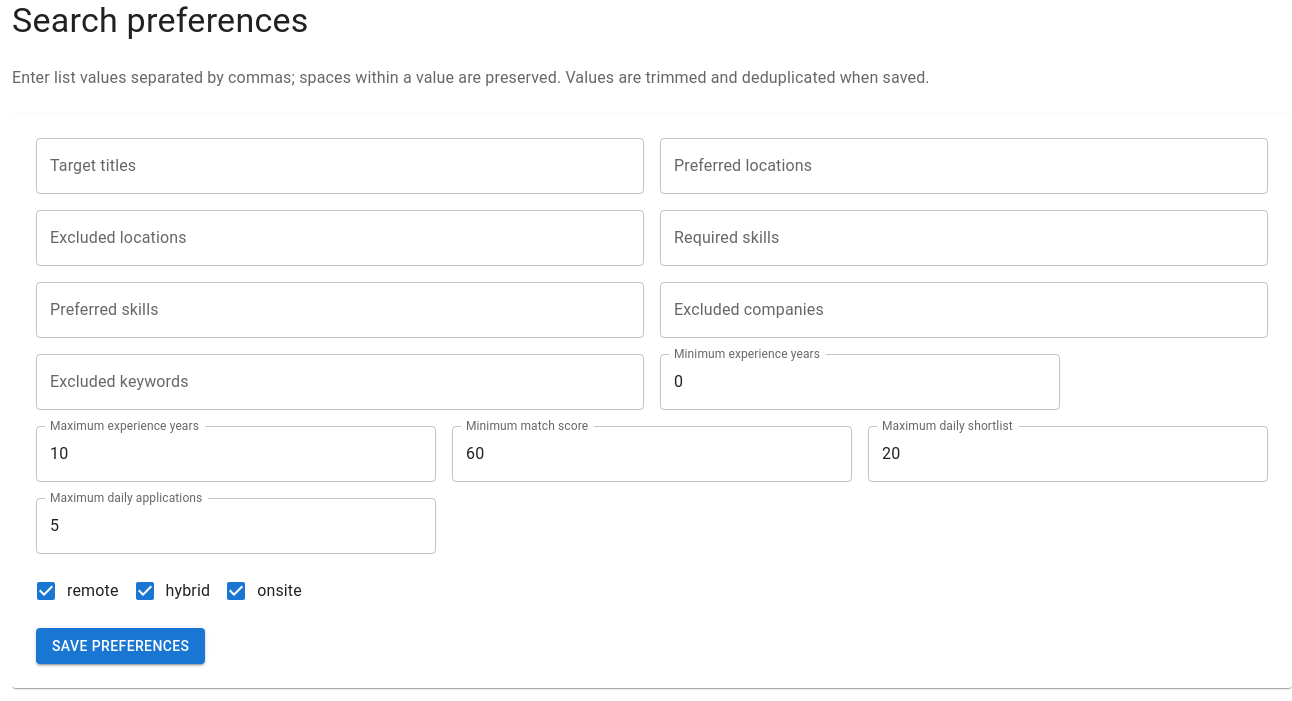
Phase 2 pages › shows the backend preference validation message
Type "Java Backend Developer" into the field labelled "Target titles" at [340, 166], box [36,138,644,194]
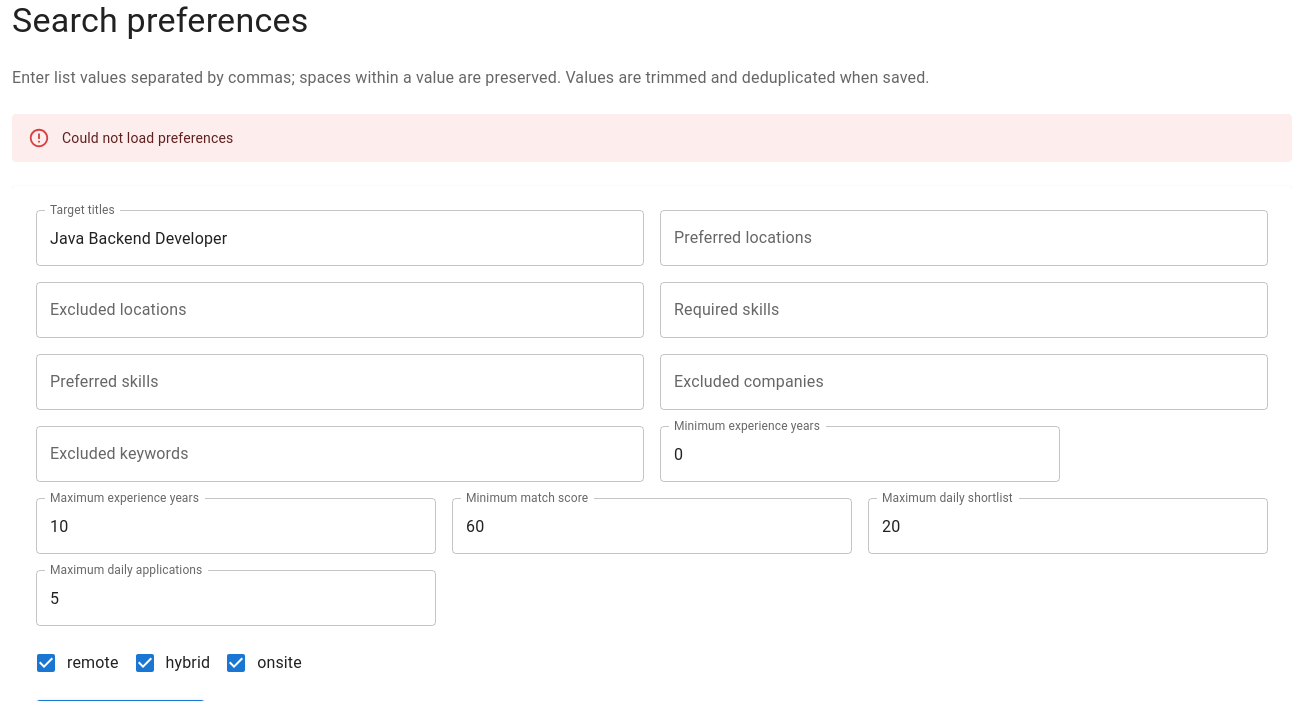
Type "Java" into the field labelled "Required skills" at [964, 310], box [660,282,1268,338]
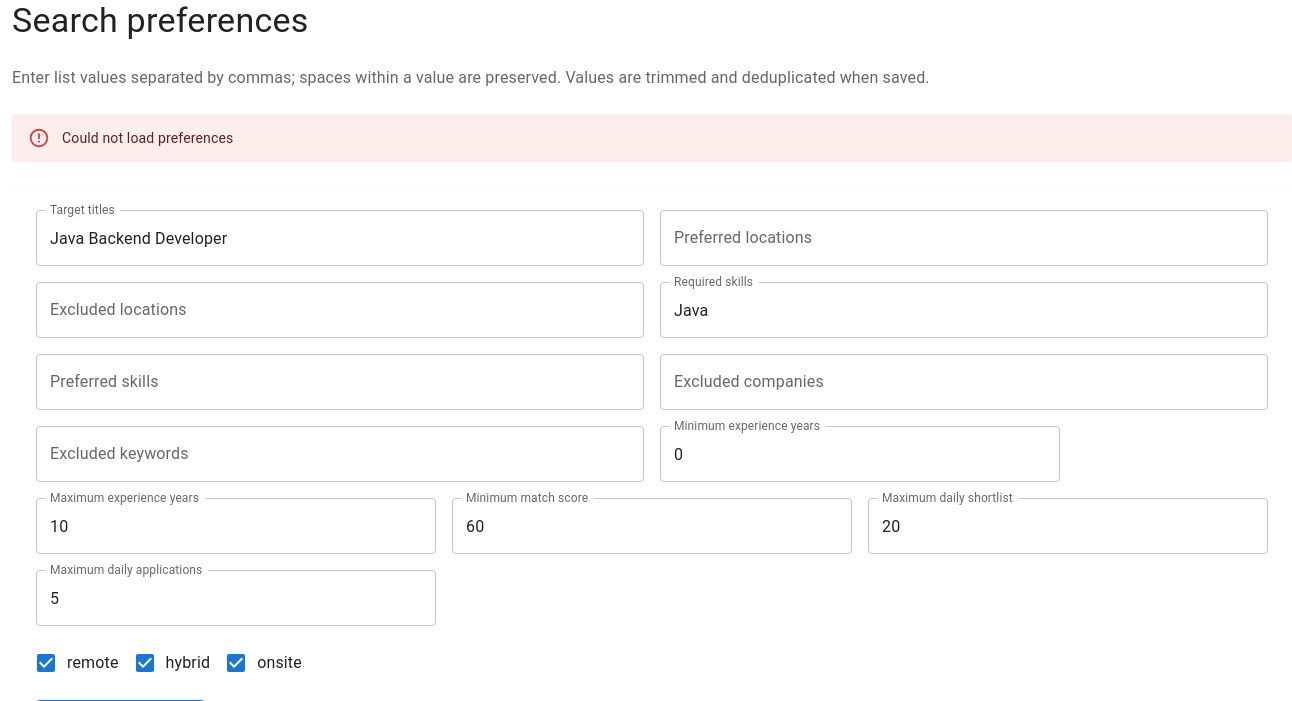
Type "Java" into the field labelled "Preferred skills" at [340, 382], box [36,354,644,410]
(page scrolled)
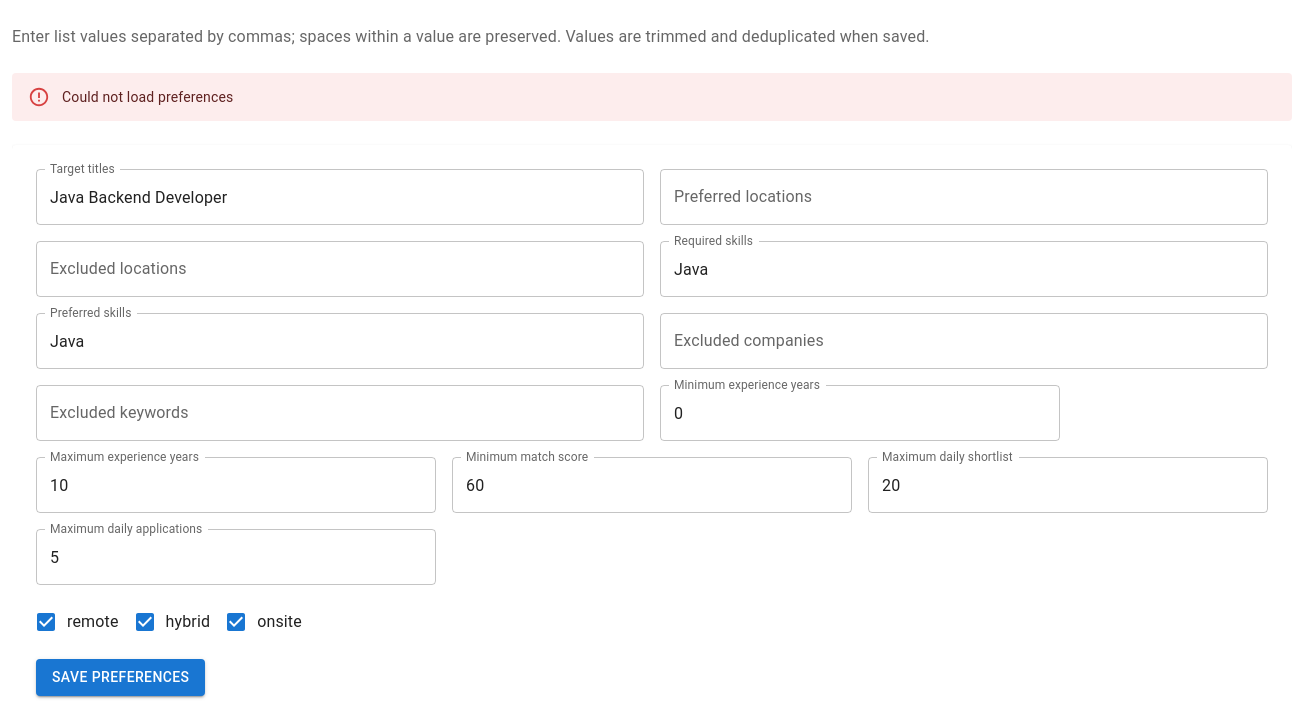
Click the button "Save preferences" at [121, 677], box [36,659,206,696]
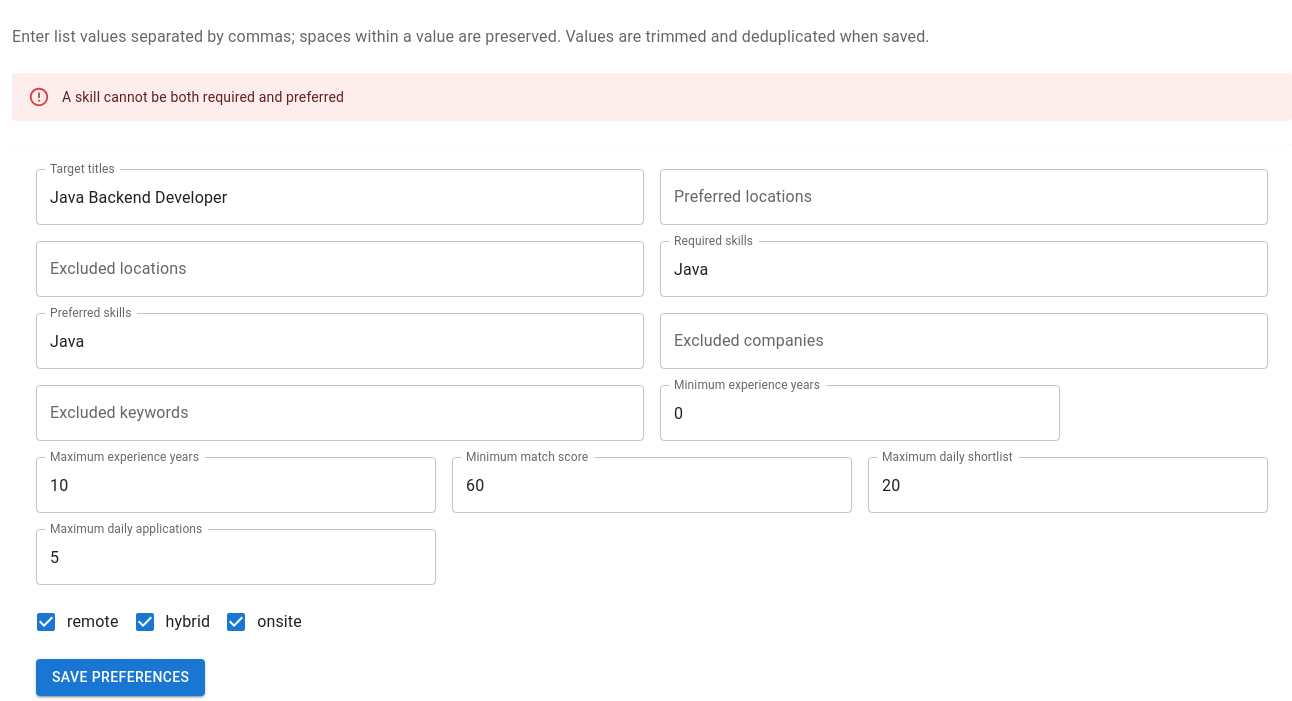
Result: the text "A skill cannot be both required and preferred" is shown at [62,89,344,105]
